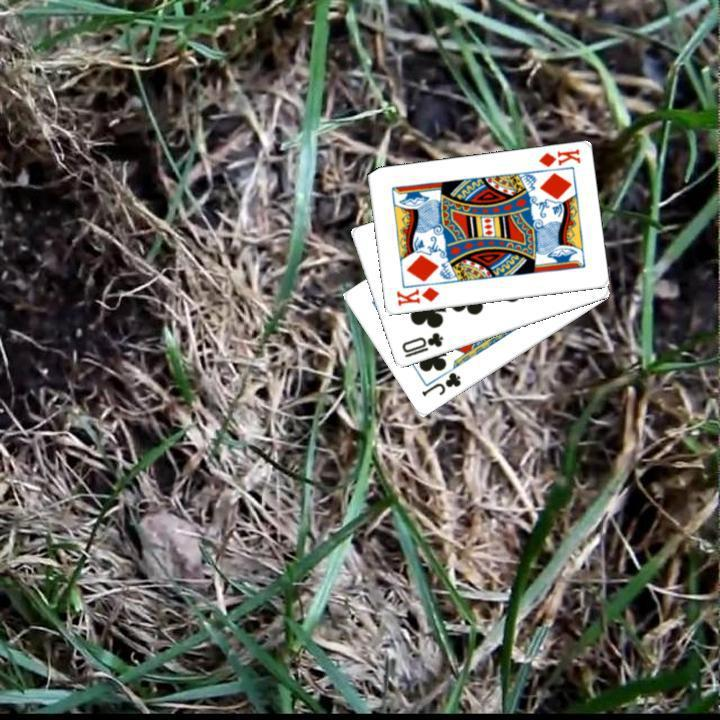10: (397, 328, 445, 360)
J: (417, 368, 463, 399)
K: (392, 283, 441, 308), (534, 145, 582, 169)
